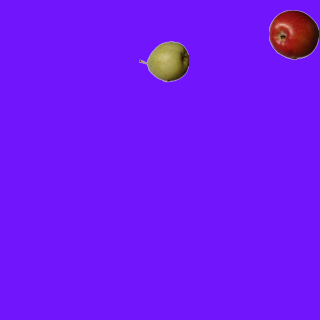Apple Braeburn: (268, 9, 318, 59)
Pear: (138, 36, 188, 86)
